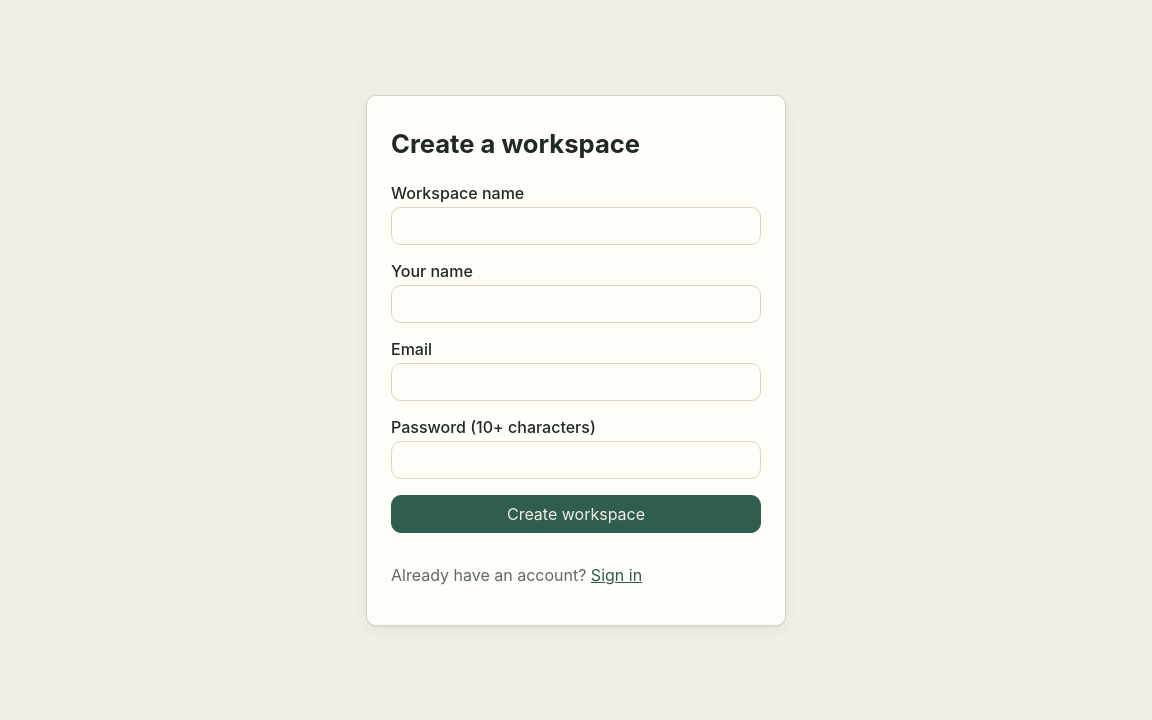
Scenario: register page › registers and signs in
Type "Acme" into the field labelled "Workspace name" at point(576, 226), box [391,206,761,244]
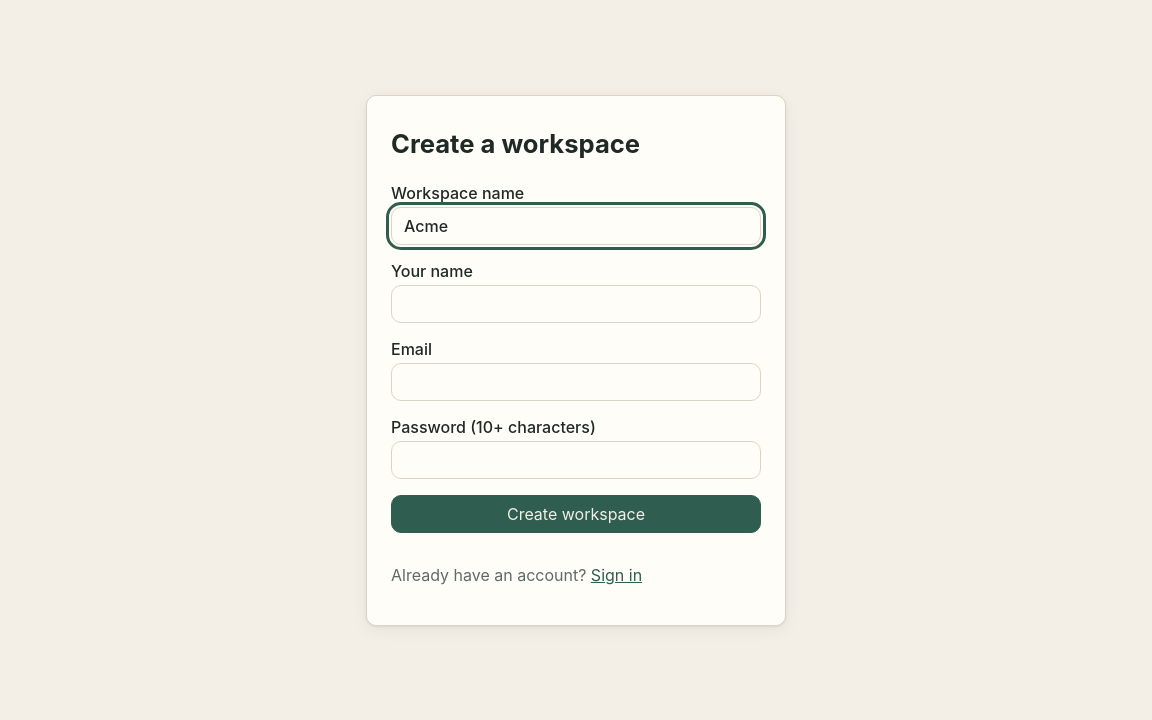
Type "Ada" into the field labelled "Your name" at point(576, 304), box [391,284,761,322]
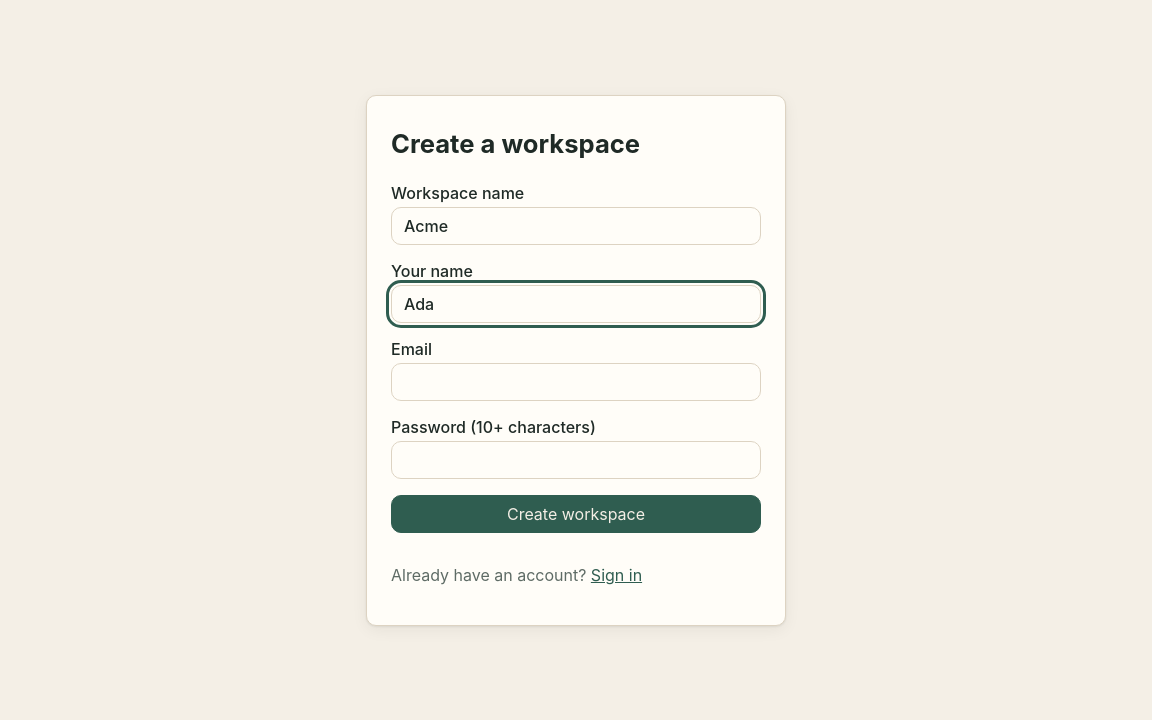
Type "ada@acme.test" into the field labelled "Email" at point(576, 382), box [391,362,761,400]
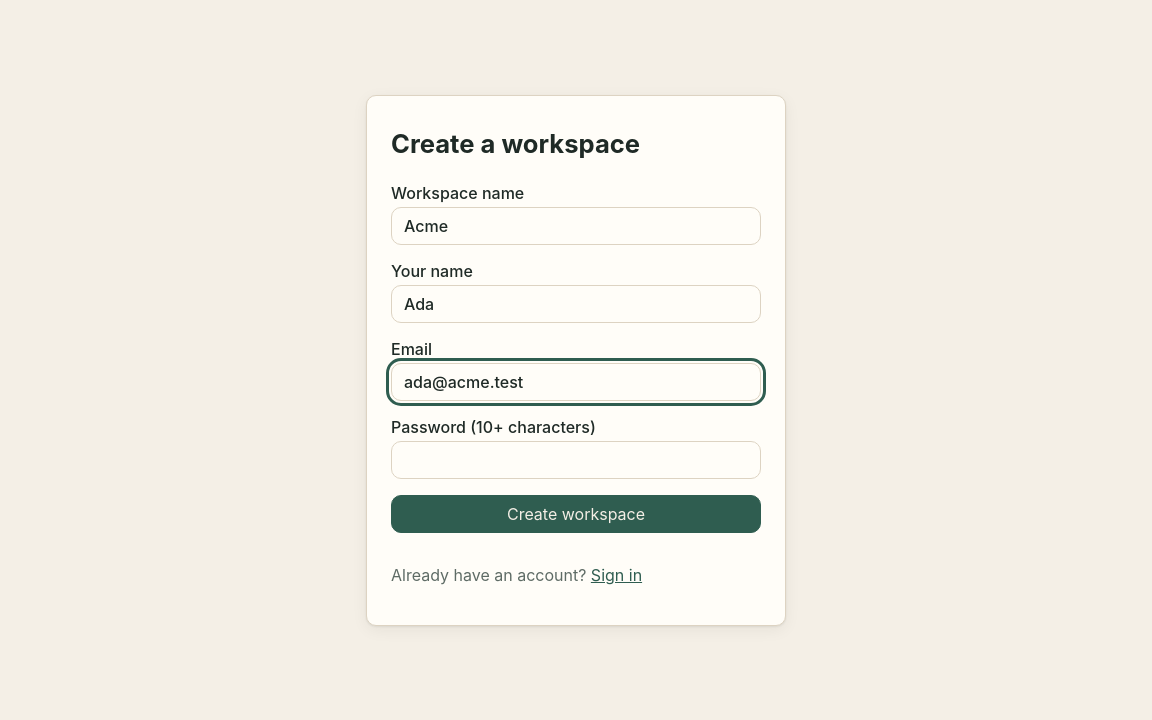
Type "long-password-1" into the password field labelled "Password (10+ characters)" at point(576, 460), box [391,440,761,478]
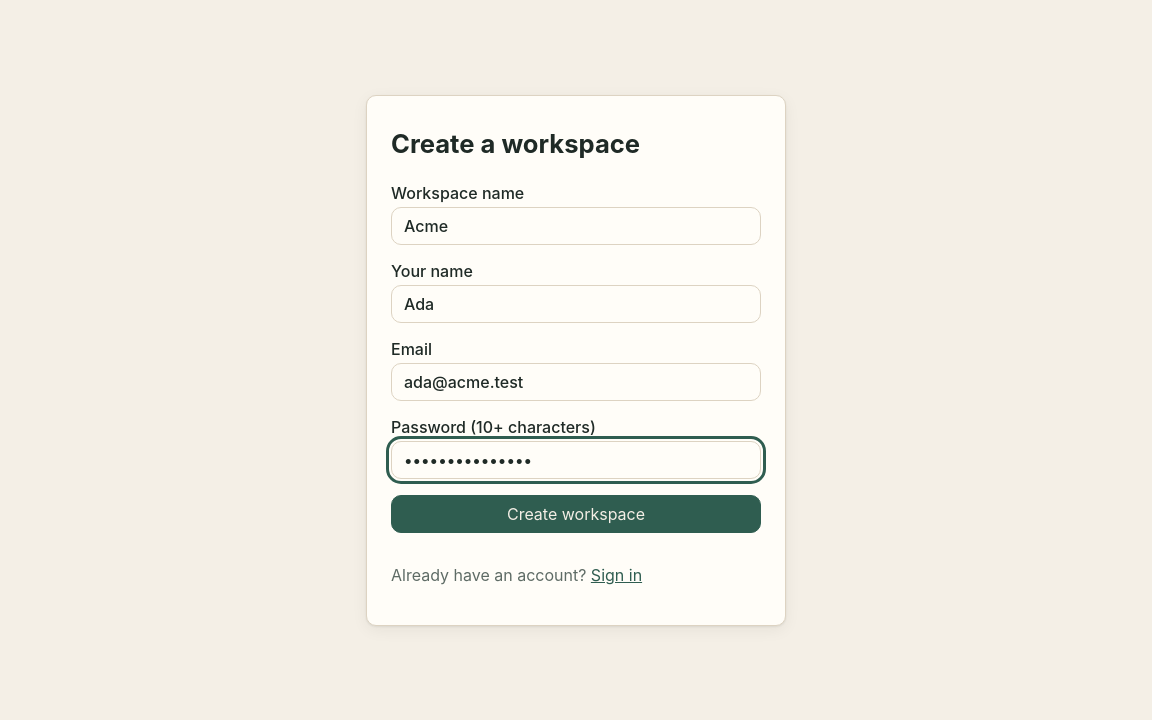
Click the button "Create workspace" at point(576, 514), box [391,494,761,532]
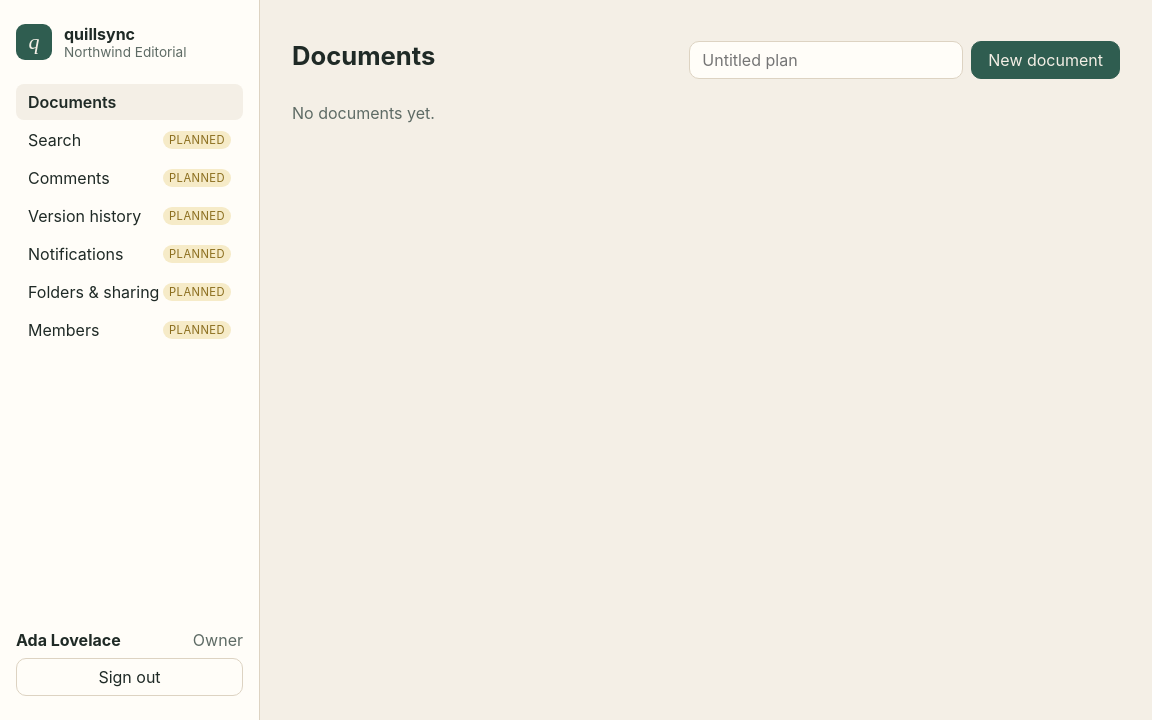
Expected: the text "No documents yet." is shown, [292,103,435,123]
